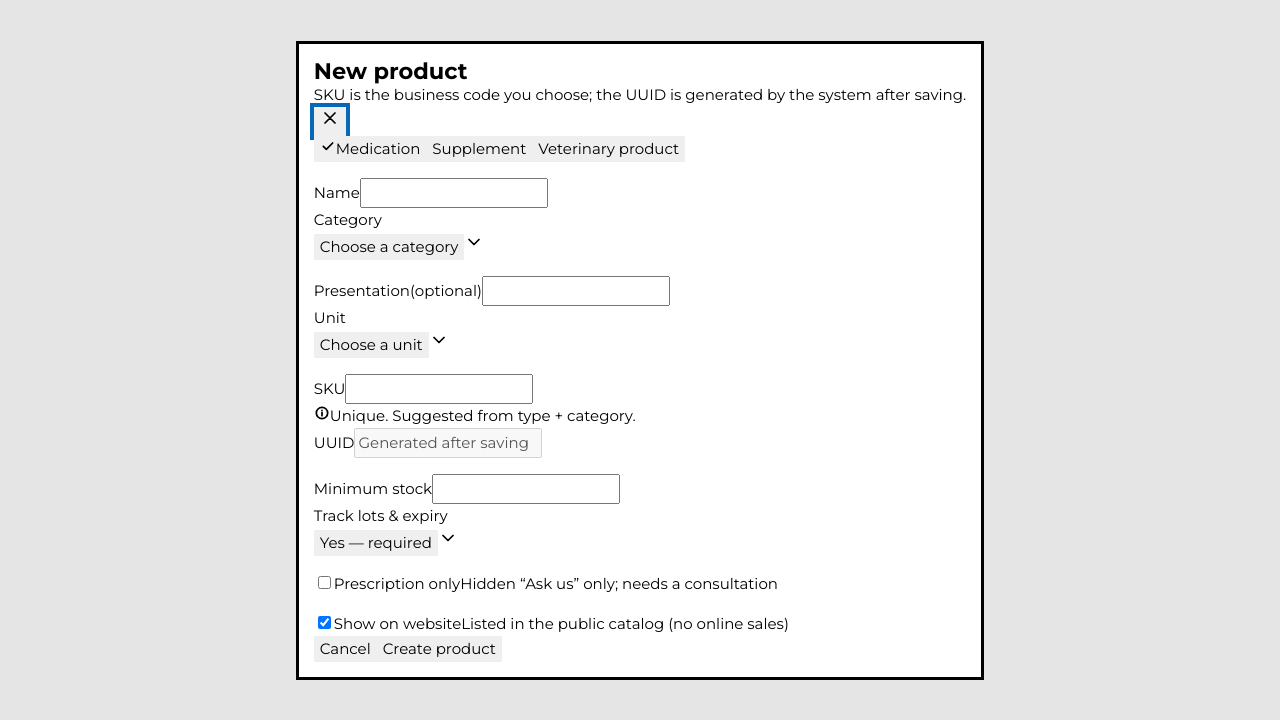
it: ProductModal › lists what is missing
Click the button "Create product": (439, 648) [377,636,502,662]
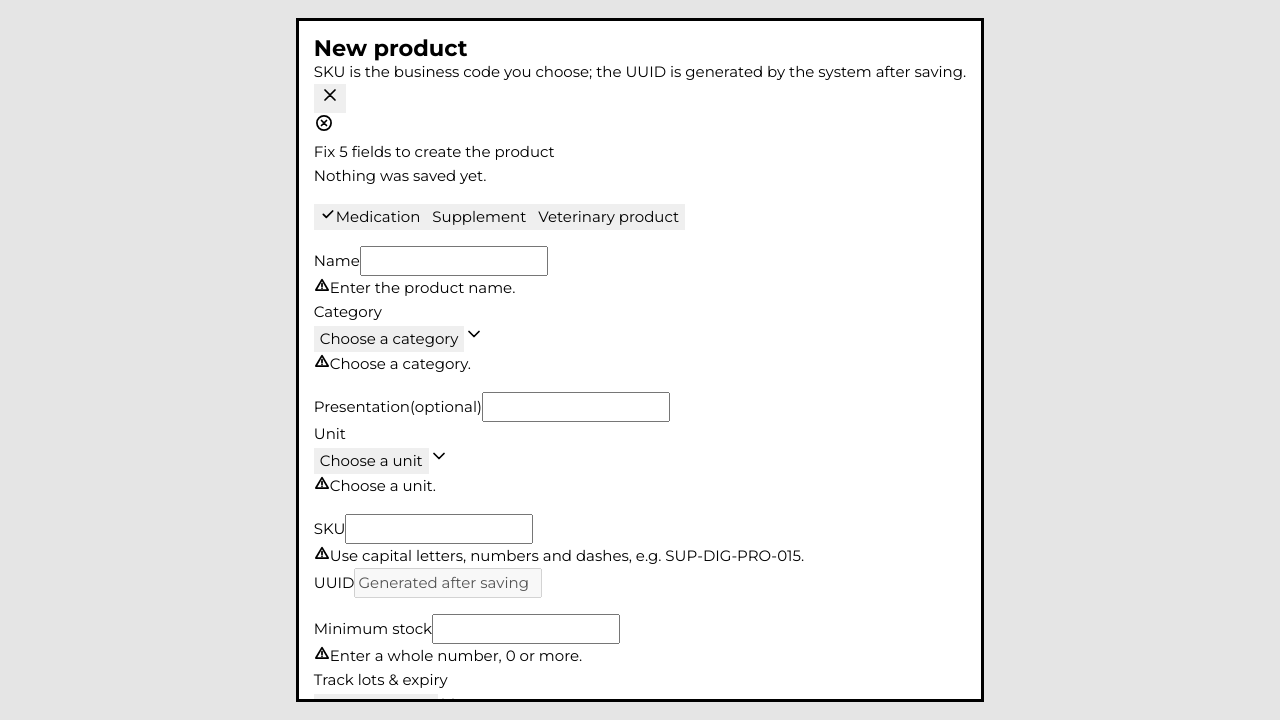
Expected: the message shows "Fix 5 fields to create the product", [314,142,555,161]
Expected: the text "Enter the product name." is shown, [330,278,515,297]
Expected: the text "Use capital letters" is shown, [330,546,804,565]
